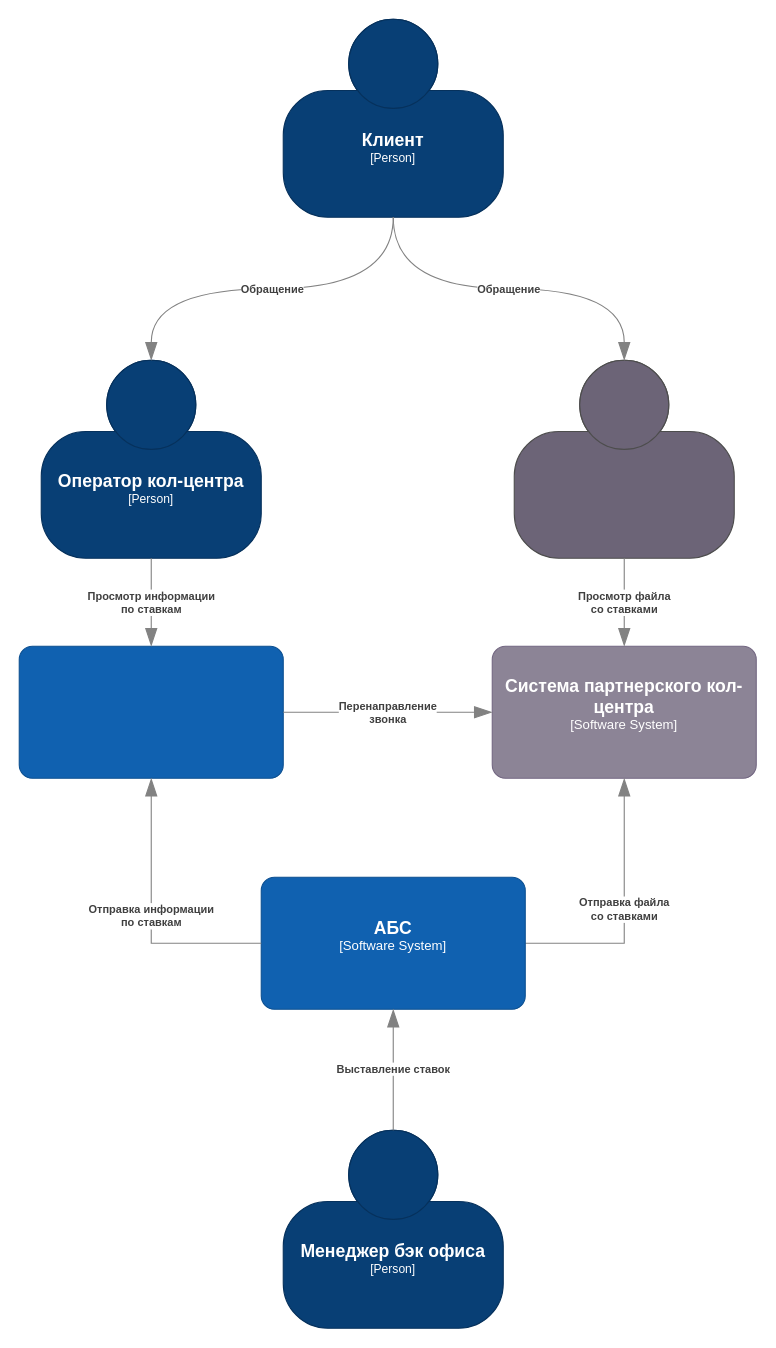
Image size: 776x1348. Some labels were removed from this diagram. Here are the shapes that lost their labels. From the top down, the centre of each, then its label:
At (x=623, y=458): "Оператор партнерского кол-центра [Person]".
At (x=150, y=711): "Система кол-центра [Software System]".
